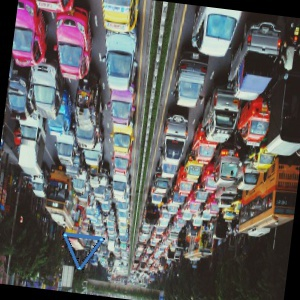triangle: (60, 230, 107, 271)
